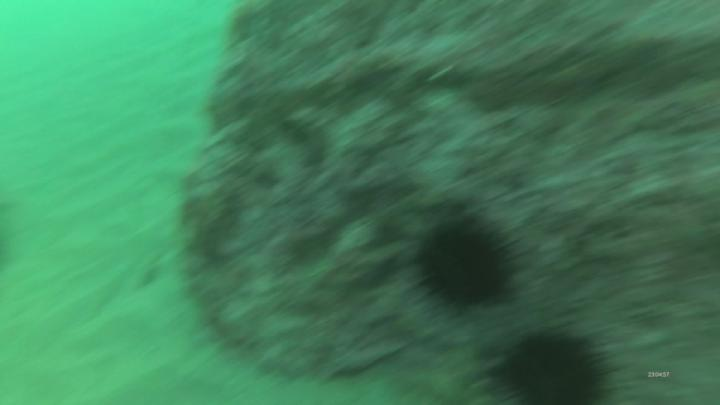echinus: (498, 335, 607, 405), (420, 223, 508, 307)
